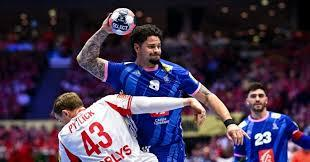ballon_handball: (109, 7, 136, 35)
